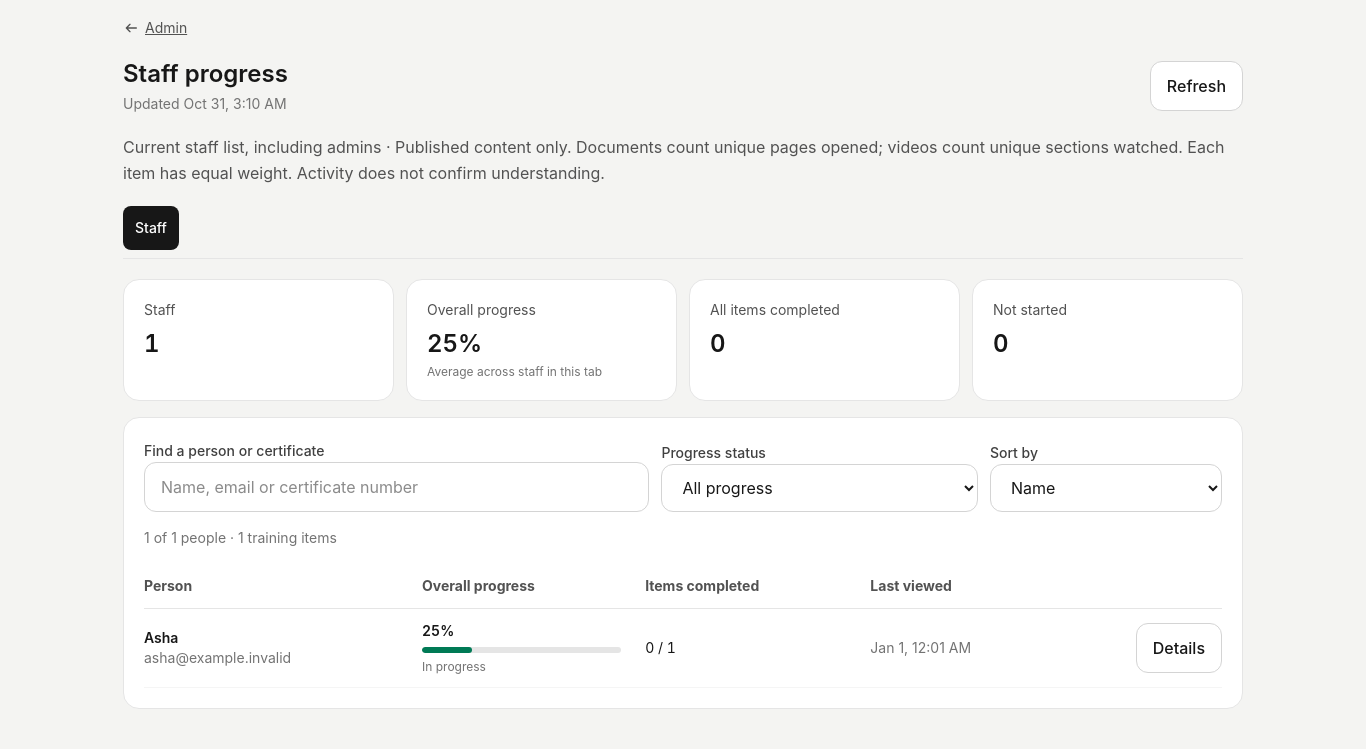
empty restored name history describes missing evidence without inventing prior suggestions
The width and height of the screenshot is (1366, 749).
Click the button with aria-label "View progress for Asha" at (1179, 648), box [1136, 623, 1222, 673]
(page scrolled)
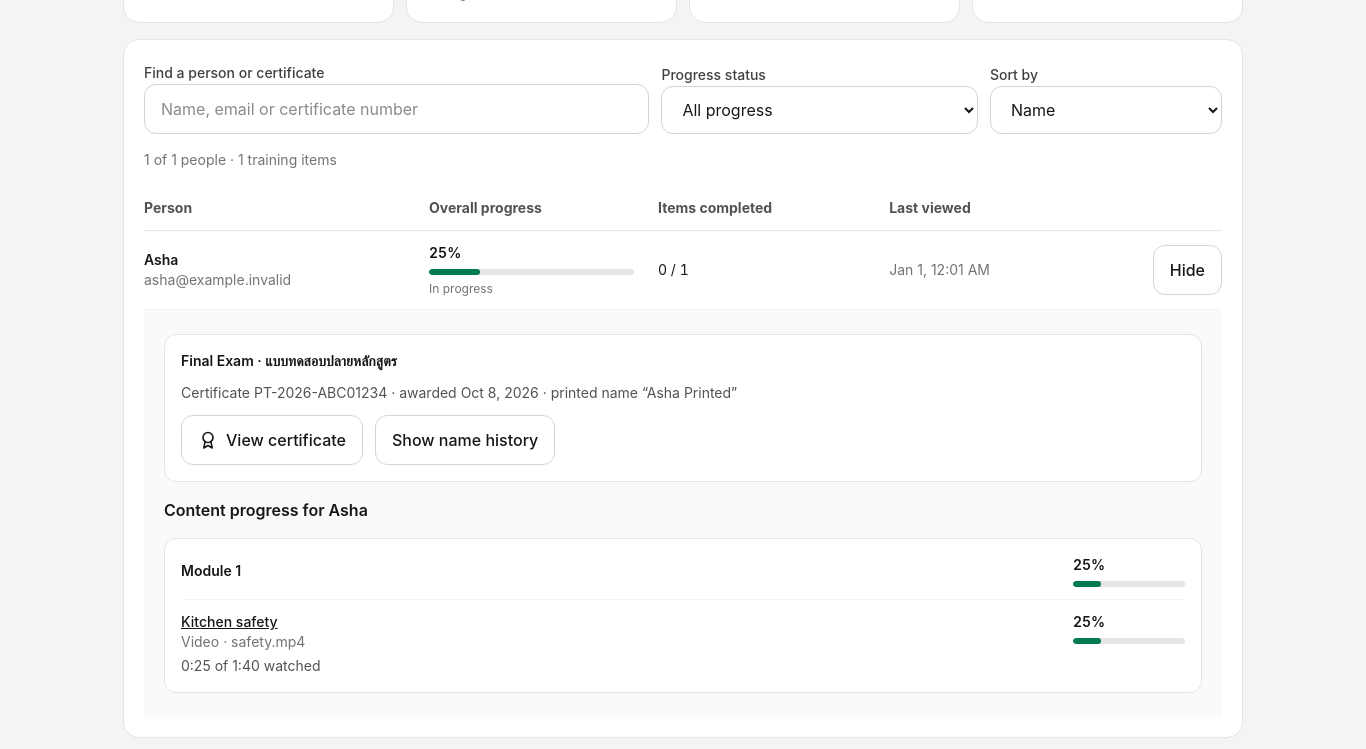
Click the button "Show name history" at (465, 440), box [375, 415, 555, 465]
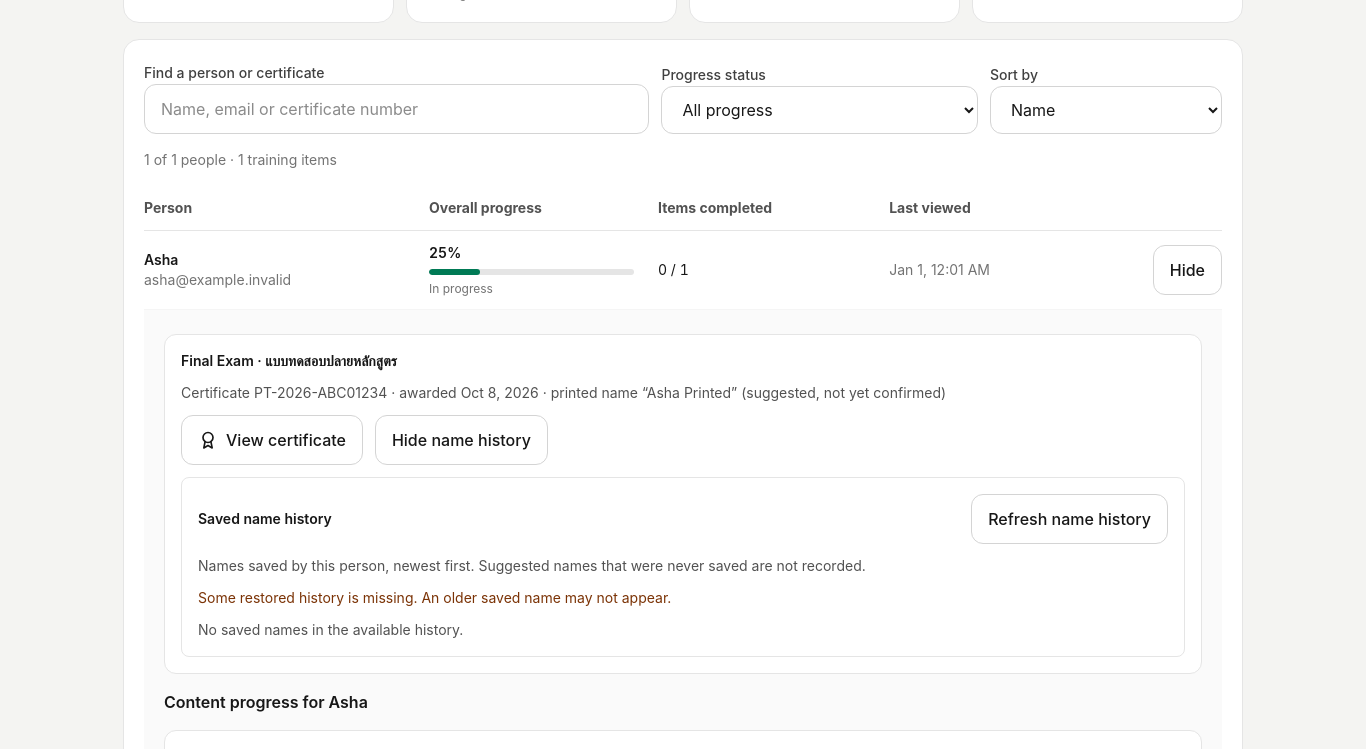
Check: the text "No saved names in the available history." is shown, box [198, 621, 463, 638]
Check: the text "Some restored history is missing" is shown, box [198, 589, 671, 606]
Check: the text "Suggested names that were never saved are not recorded" is shown, box [198, 557, 866, 574]
